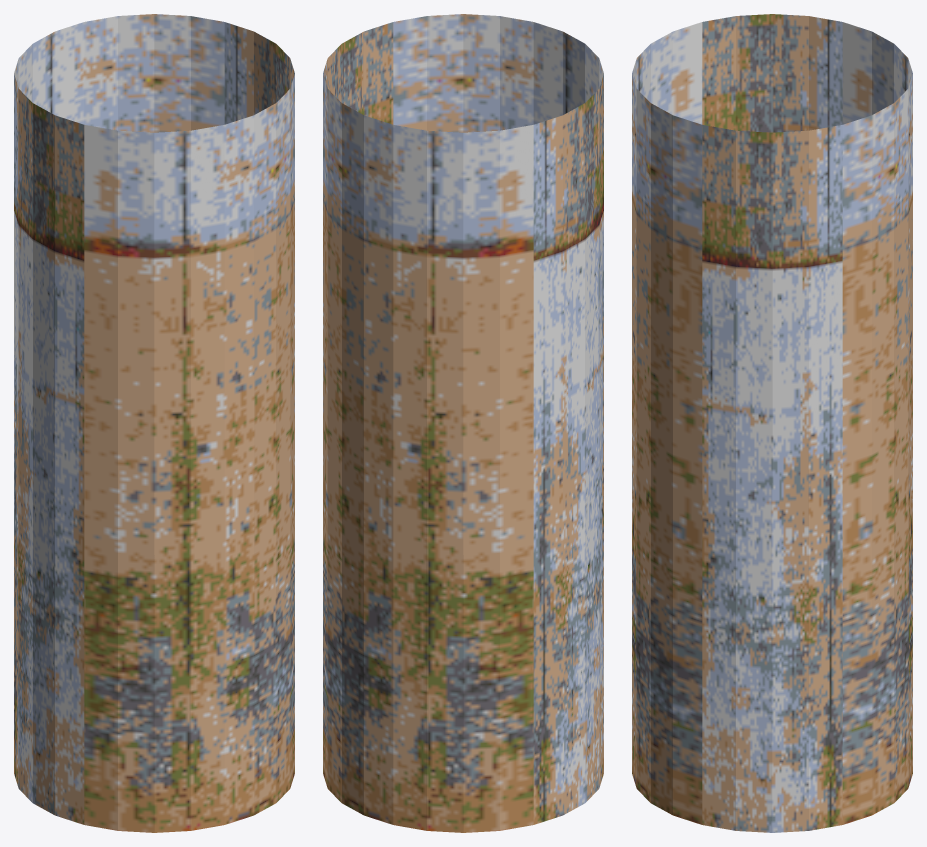
File: torre.fbx
The picture shows the model from 3 angles, left to right: view 1: azimuth 30°, elevation 25°; view 2: azimuth 150°, elevation 25°; view 3: azimuth 270°, elevation 25°; orthographic projection.
Parts seen in each view (by area): view 1: Cylinder; view 2: Cylinder; view 3: Cylinder.
Part boxes in pixels (box(x1,y1,x2,y2)): Cylinder: box(14, 14, 294, 832); Cylinder: box(323, 14, 603, 832); Cylinder: box(632, 14, 912, 832).
Bounding box in the file's own units: 9455 × 26000 × 9455.
1 material, 1 textured.
